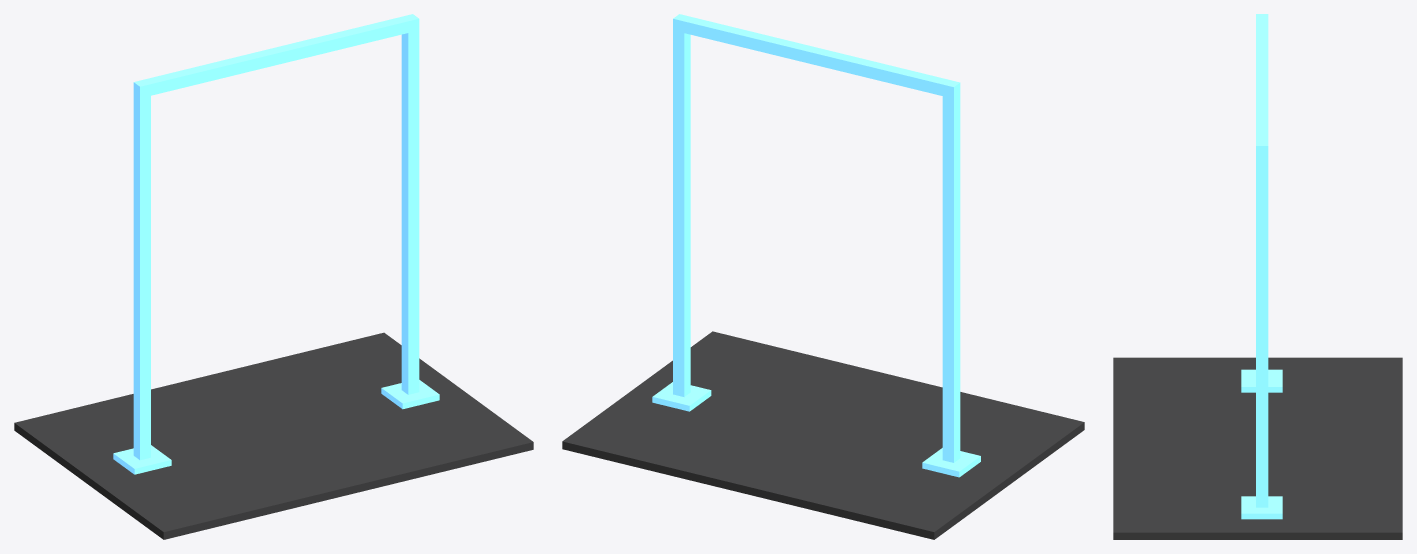
File: PullUp_BarUpgrade3.glb
The picture shows the model from 3 angles, left to right: view 1: azimuth 30°, elevation 25°; view 2: azimuth 150°, elevation 25°; view 3: azimuth 270°, elevation 25°; orthographic projection. The views are drawn at different scales.
Visible parts, largest first — view 1: Cube, Cube_copy_copy_copy, Cube_copy_copy_copy_copy, Cube_copy_copy_copy_copy_copy, Cube_copy_copy, Cube_copy; view 2: Cube, Cube_copy_copy_copy_copy, Cube_copy_copy_copy, Cube_copy_copy_copy_copy_copy, Cube_copy_copy, Cube_copy; view 3: Cube, Cube_copy_copy_copy, Cube_copy_copy_copy_copy_copy, Cube_copy_copy, Cube_copy.
Part boxes in pixels (left/top/right/bottom): Cube: left=14, top=332, right=533, bottom=539; Cube_copy_copy_copy: left=401, top=14, right=419, bottom=394; Cube_copy_copy_copy_copy: left=133, top=80, right=150, bottom=460; Cube_copy_copy_copy_copy_copy: left=137, top=14, right=418, bottom=95; Cube_copy_copy: left=381, top=380, right=439, bottom=409; Cube_copy: left=113, top=445, right=171, bottom=474; Cube: left=562, top=331, right=1084, bottom=539; Cube_copy_copy_copy_copy: left=942, top=80, right=960, bottom=462; Cube_copy_copy_copy: left=673, top=14, right=690, bottom=396; Cube_copy_copy_copy_copy_copy: left=673, top=14, right=955, bottom=97; Cube_copy_copy: left=652, top=382, right=711, bottom=411; Cube_copy: left=922, top=448, right=980, bottom=477; Cube: left=1113, top=357, right=1402, bottom=539; Cube_copy_copy_copy: left=1256, top=140, right=1268, bottom=507; Cube_copy_copy_copy_copy_copy: left=1256, top=15, right=1268, bottom=156; Cube_copy_copy: left=1241, top=496, right=1282, bottom=519; Cube_copy: left=1241, top=369, right=1282, bottom=392.
Size of the model in its own units: 8 by 8 by 5.6.
